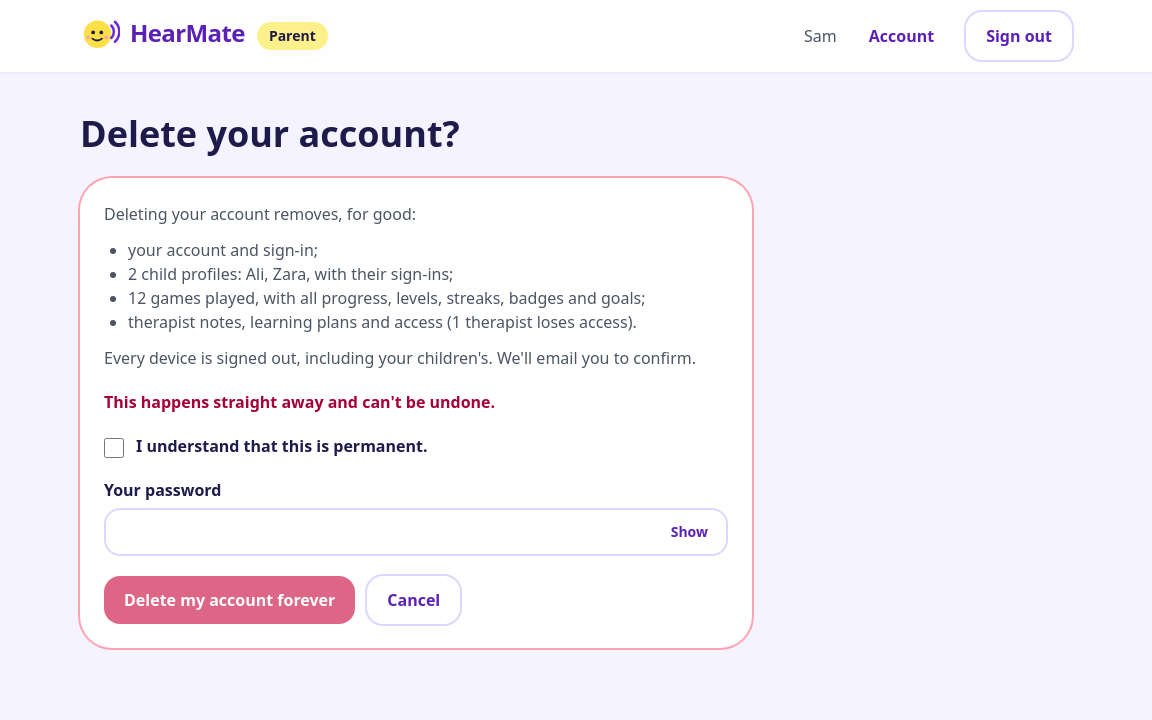
Test case: Deleting a parent account › says what goes and waits for "I understand" and the password
Expected: the list item "2 child profiles: Ali, Zara, with their sign-ins;" is shown, [128,263,453,285]
Expected: the list item "12 games played" is shown, [128,287,255,309]
Click the checkbox labelled "I understand that this is permanent.". click: (114,448)
box: [104,438,124,458]
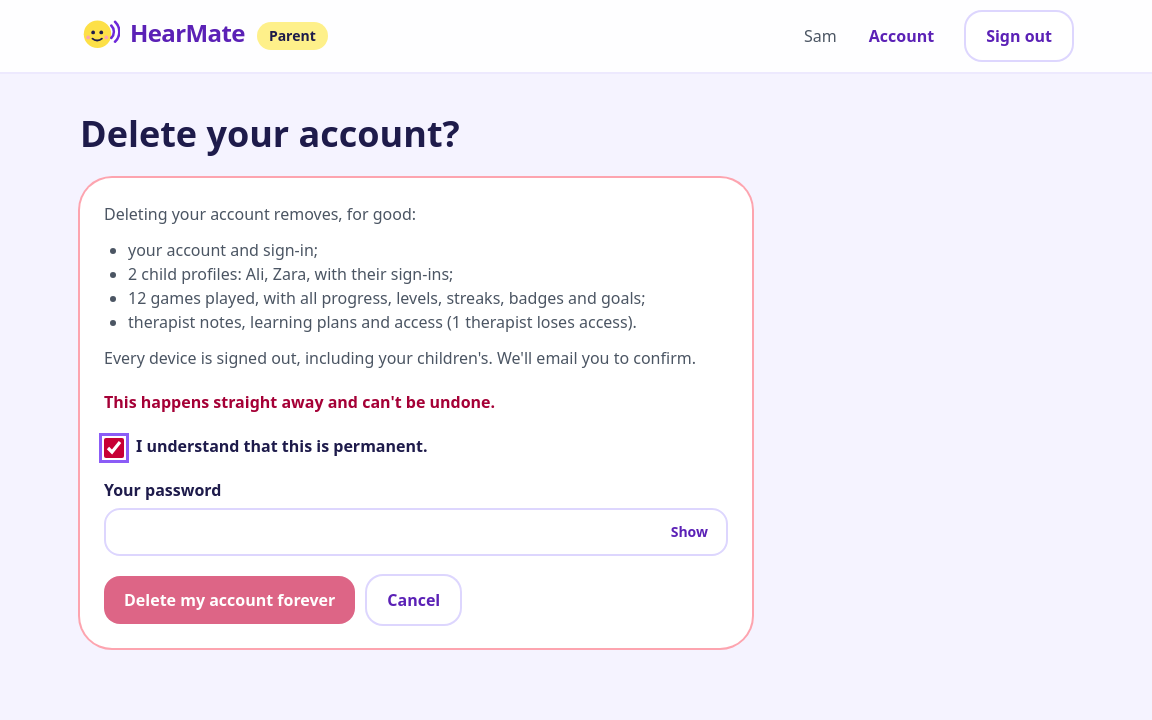
Expected: the button "Delete my account forever" is disabled, [104,576,355,624]
Type "a-long-password" into the password field labelled "Your password". click: (416,532)
box: [104,508,728,556]
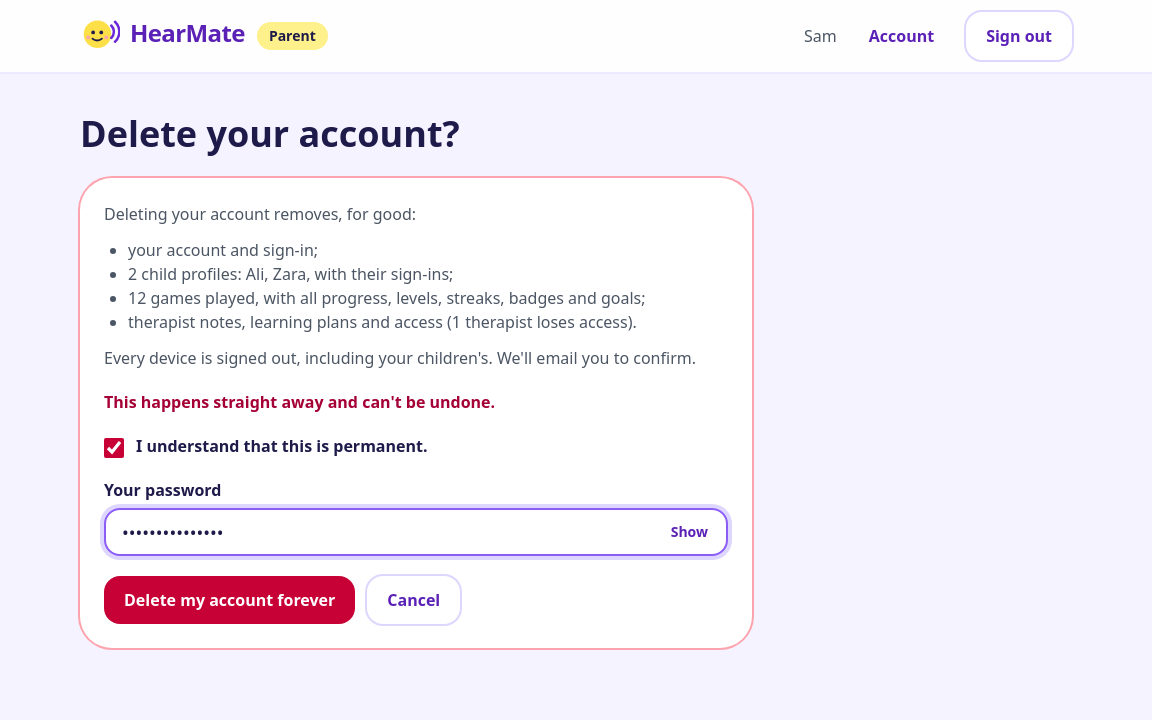
Now the button "Delete my account forever" is enabled, box [104,576,355,624]
